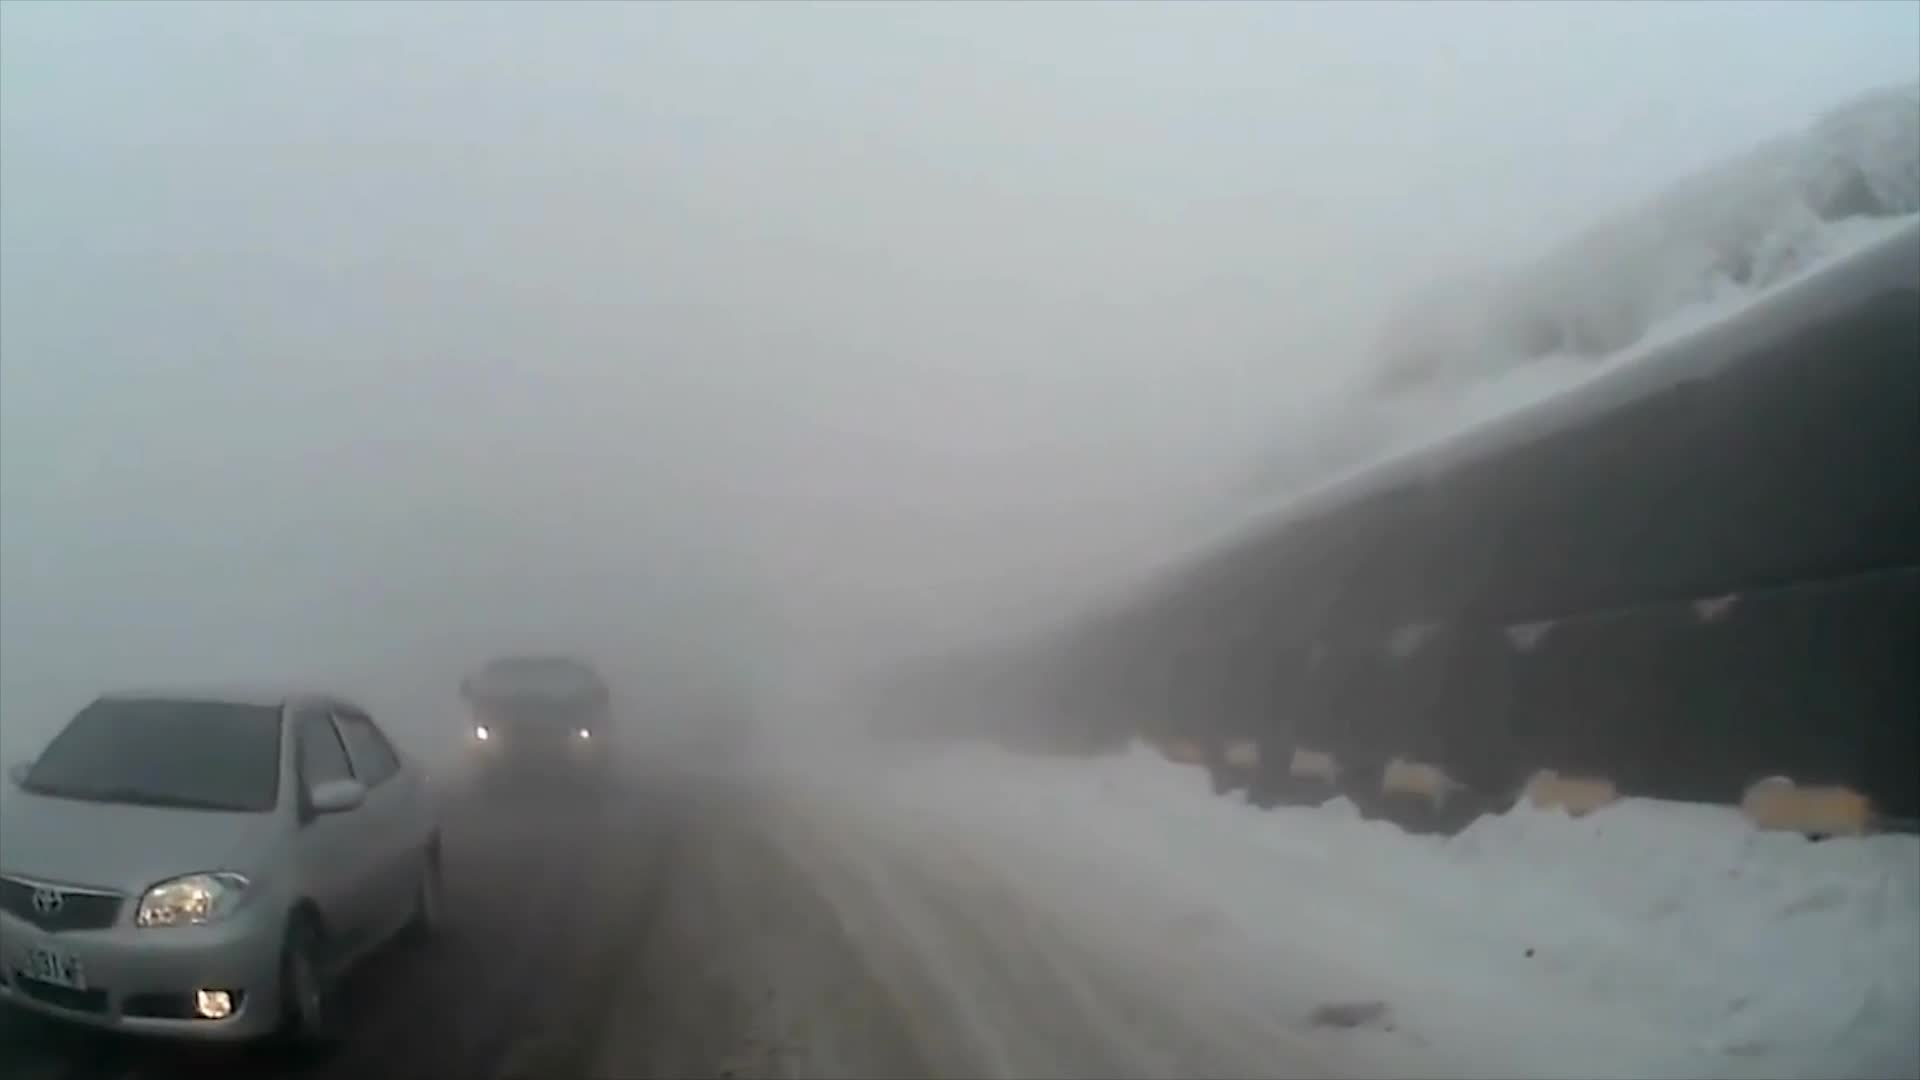vehicle: (0, 680, 451, 1063), (458, 650, 617, 790)
